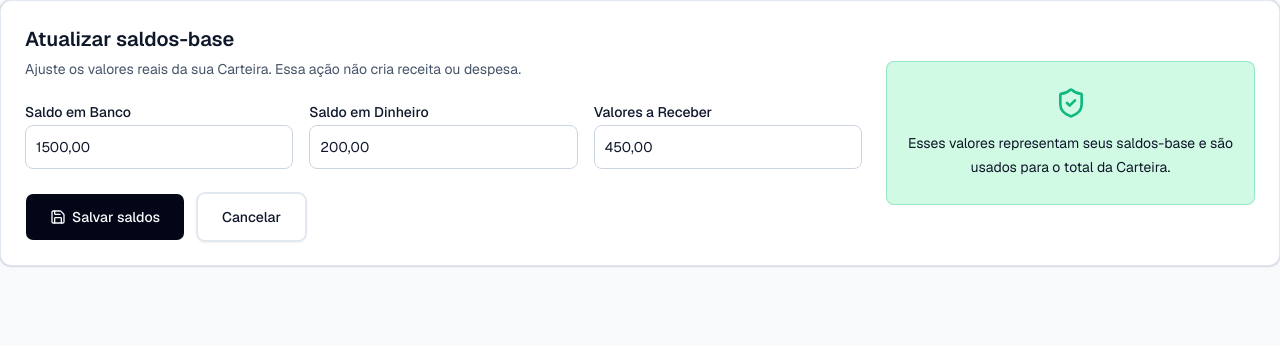
WalletBalancesForm › should display an error when a value is negative
The width and height of the screenshot is (1280, 346).
Replace the text in the field labelled "Saldo em Banco" with "-1" at point(159, 147), box [25,125,293,169]
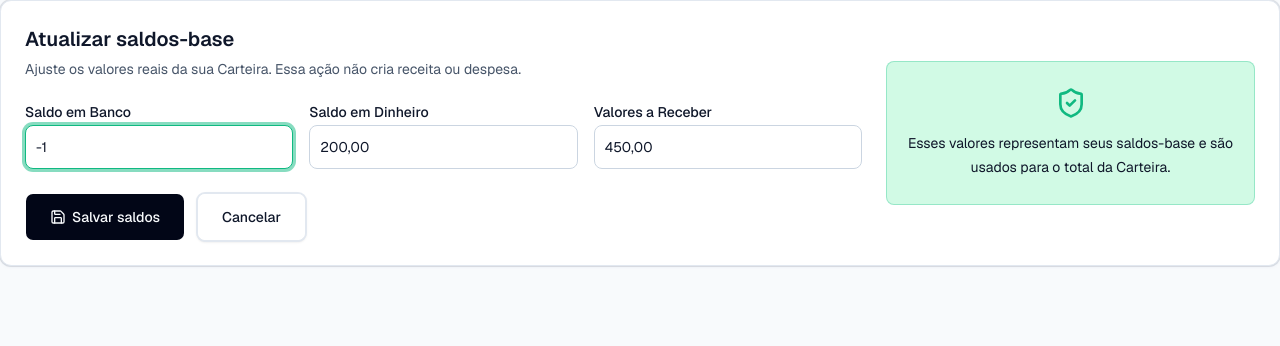
Click the button "Salvar saldos" at point(105, 217), box [25,193,185,241]
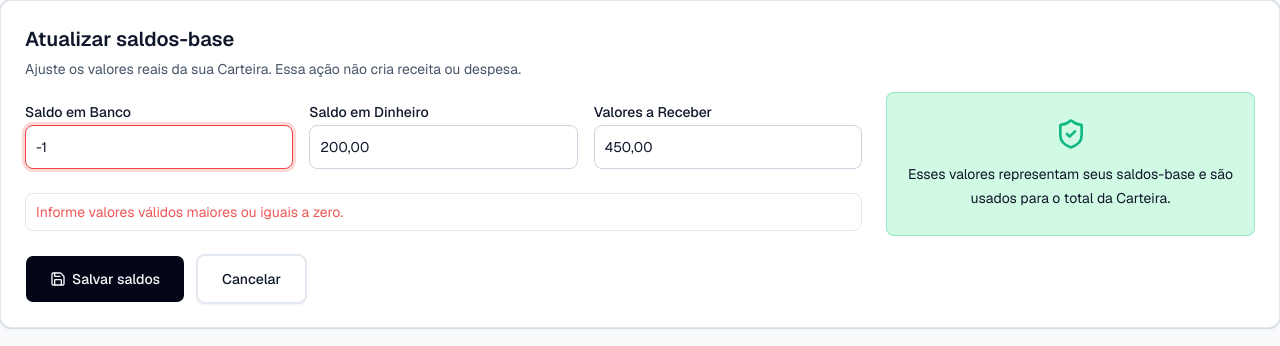
Check: the text "Informe valores válidos maiores ou iguais a zero." is shown, box [36,203,343,221]
